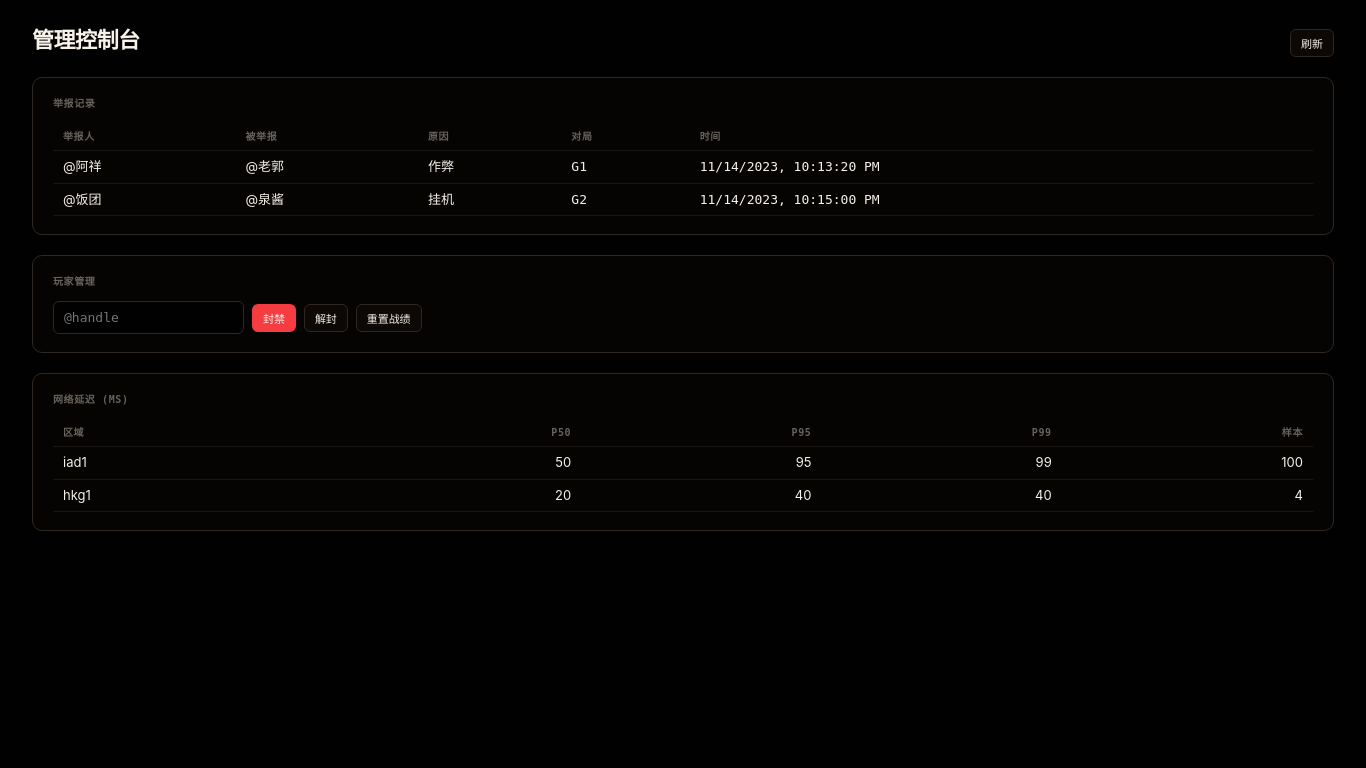
Test: AdminDashboard — moderation actions › refuses a ban with an empty handle
Check: the text "@老郭" is shown, box [236,150,418,183]
Click the button "封禁": {"x": 274, "y": 318} [252,304,296,332]
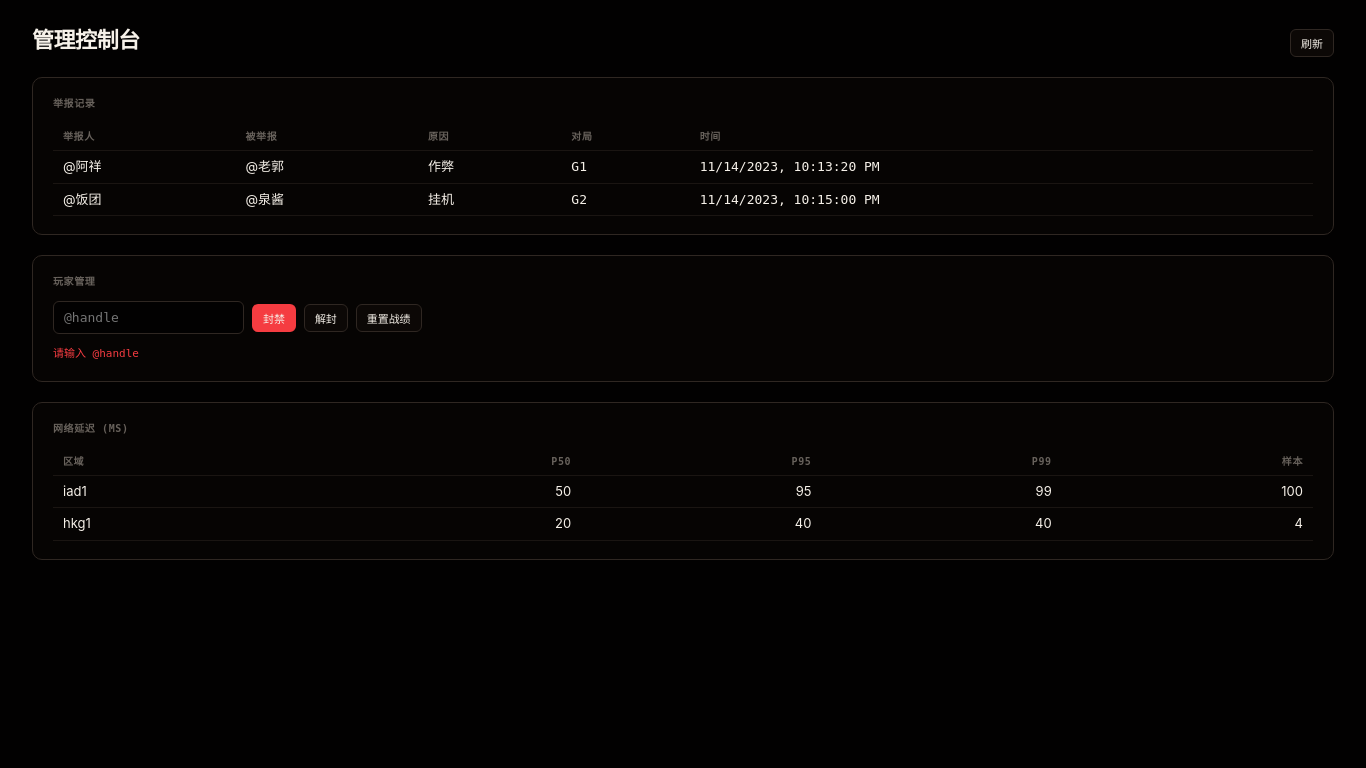
Check: the text "请输入 @handle" is shown, box [53,347,139,360]
